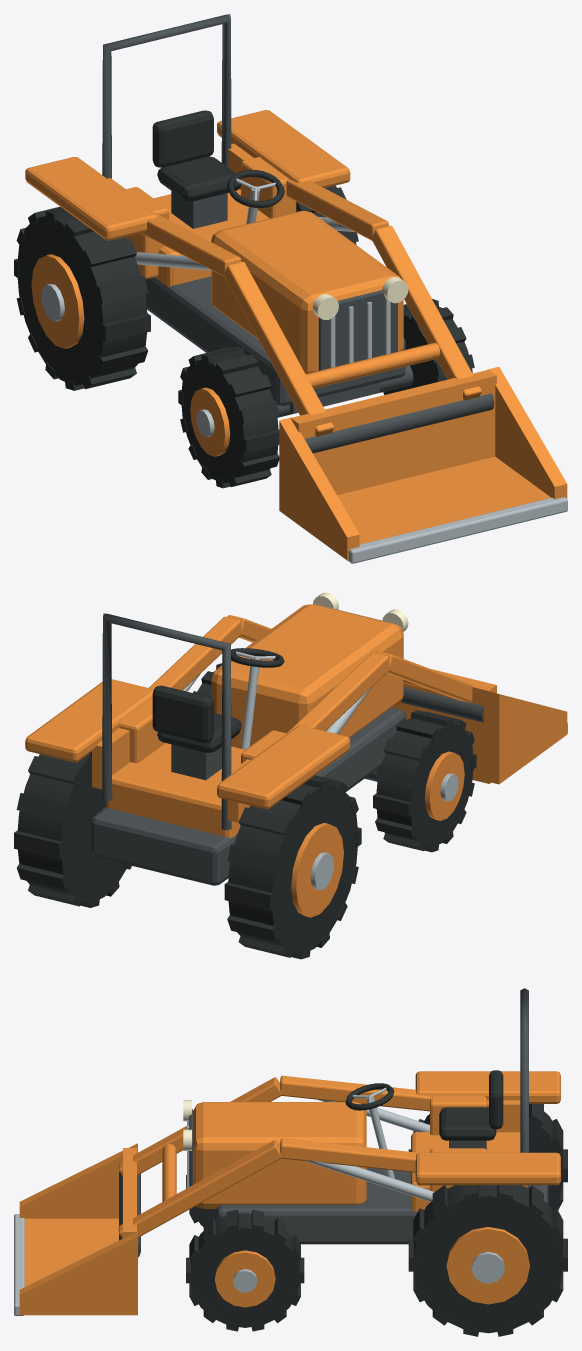
Rendered from tractor_compact_loader.glb.
3 renders of one model, top to bottom at view 1: azimuth 30°, elevation 25°; view 2: azimuth 150°, elevation 25°; view 3: azimuth 270°, elevation 25°, orthographic. The views are drawn at different scales.
Visible parts, largest first — view 1: Compact tractor orange hood, Loader bucket rear wall, Compact tractor wheel tire.002, Loader bucket solid floor, Compact tractor chassis, Loader bucket thick side wall, Compact tractor rear fender, Compact tractor wheel tire, Compact tractor rear fender.001, Compact tractor forward loader arm, Loader bucket thick side wall.001, Compact tractor forward loader arm.001 (+24 smaller); view 2: Compact tractor orange hood, Compact tractor chassis, Compact tractor wheel tire.002, Compact tractor wheel tire.003, Compact tractor rear body, Compact tractor rear fender, Compact tractor wheel tire, Loader bucket thick side wall, Compact tractor rear fender.001, Compact tractor rollover bar, Compact tractor wheel rim.002, Compact tractor padded backrest (+30 smaller); view 3: Compact tractor orange hood, Compact tractor wheel tire.003, Compact tractor chassis, Loader bucket thick side wall.001, Compact tractor wheel tire.001, Compact tractor rear fender.001, Loader bucket solid floor, Compact tractor wheel rim.003, Loader bucket thick side wall, Compact tractor rear fender, Compact tractor forward loader arm.001, Compact tractor rear loader arm.001 (+20 smaller).
Part boxes in pixels (left/top/right/bottom): Compact tractor orange hood: left=211, top=211, right=403, bottom=373; Loader bucket rear wall: left=290, top=369, right=496, bottom=494; Compact tractor wheel tire.002: left=17, top=215, right=147, bottom=385; Loader bucket solid floor: left=337, top=456, right=551, bottom=544; Compact tractor chassis: left=145, top=276, right=405, bottom=405; Loader bucket thick side wall: left=279, top=417, right=359, bottom=560; Compact tractor rear fender: left=25, top=157, right=157, bottom=240; Compact tractor wheel tire: left=181, top=354, right=278, bottom=483; Compact tractor rear fender.001: left=217, top=110, right=350, bottom=187; Compact tractor forward loader arm: left=224, top=262, right=333, bottom=436; Loader bucket thick side wall.001: left=487, top=366, right=567, bottom=498; Compact tractor forward loader arm.001: left=372, top=225, right=481, bottom=400; Compact tractor orange hood: left=211, top=604, right=403, bottom=748; Compact tractor chassis: left=91, top=707, right=405, bottom=885; Compact tractor wheel tire.002: left=228, top=784, right=357, bottom=954; Compact tractor wheel tire.003: left=17, top=753, right=127, bottom=902; Compact tractor rear body: left=106, top=743, right=245, bottom=837; Compact tractor rear fender: left=217, top=725, right=350, bottom=809; Compact tractor wheel tire: left=376, top=718, right=473, bottom=847; Loader bucket thick side wall: left=486, top=691, right=567, bottom=784; Compact tractor rear fender.001: left=25, top=679, right=153, bottom=762; Compact tractor rollover bar: left=102, top=613, right=231, bottom=830; Compact tractor wheel rim.002: left=291, top=822, right=343, bottom=917; Compact tractor padded backrest: left=152, top=685, right=213, bottom=742; Compact tractor orange hood: left=193, top=1102, right=366, bottom=1208; Compact tractor wheel tire.003: left=413, top=1185, right=562, bottom=1333; Compact tractor chassis: left=216, top=1167, right=548, bottom=1244; Loader bucket thick side wall.001: left=19, top=1231, right=137, bottom=1315; Compact tractor wheel tire.001: left=191, top=1213, right=299, bottom=1327; Compact tractor rear fender.001: left=415, top=1152, right=560, bottom=1185; Loader bucket solid floor: left=24, top=1218, right=118, bottom=1286; Compact tractor wheel rim.003: left=446, top=1227, right=529, bottom=1304; Loader bucket thick side wall: left=19, top=1143, right=137, bottom=1218; Compact tractor rear fender: left=415, top=1071, right=560, bottom=1103; Compact tractor forward loader arm.001: left=118, top=1140, right=281, bottom=1238; Compact tractor rear loader arm.001: left=280, top=1138, right=419, bottom=1172.
Size of the model in its own units: 1.74 by 1.87 by 3.51.
